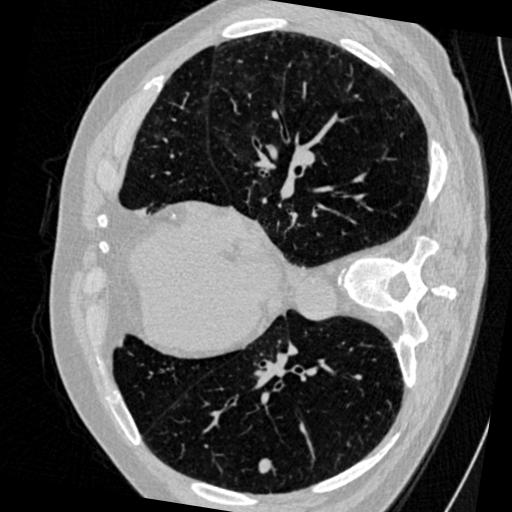nodule: (255, 455, 274, 474)
